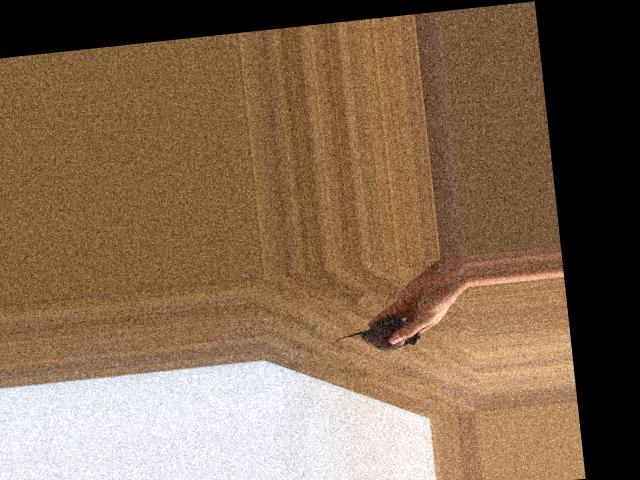beet: (328, 315, 421, 356)
